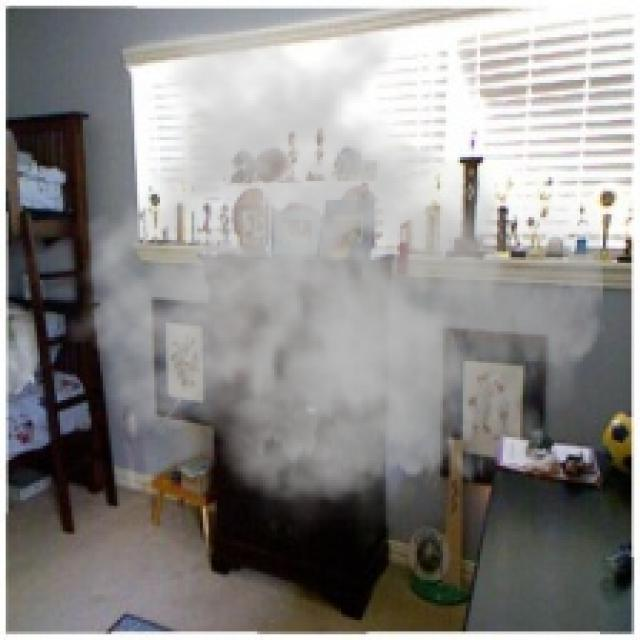smoke: (63, 34, 606, 552)
